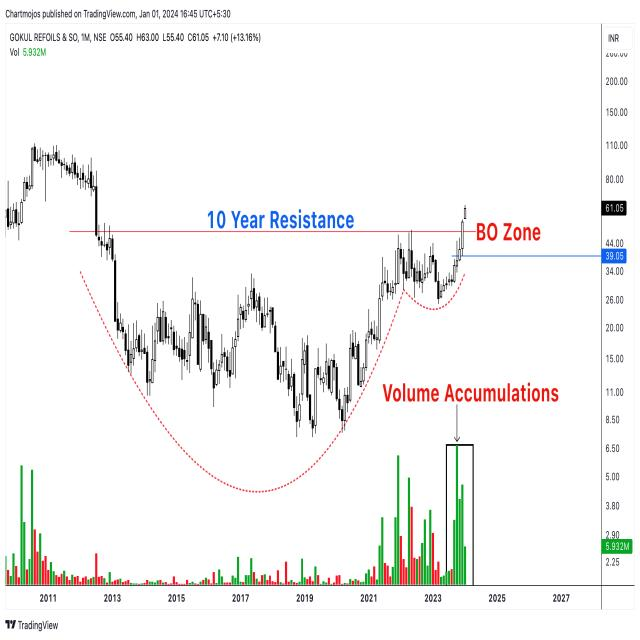Cup-and-handle: (95, 229, 481, 442)
